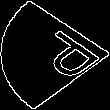P_SE: (11, 24, 99, 86)
